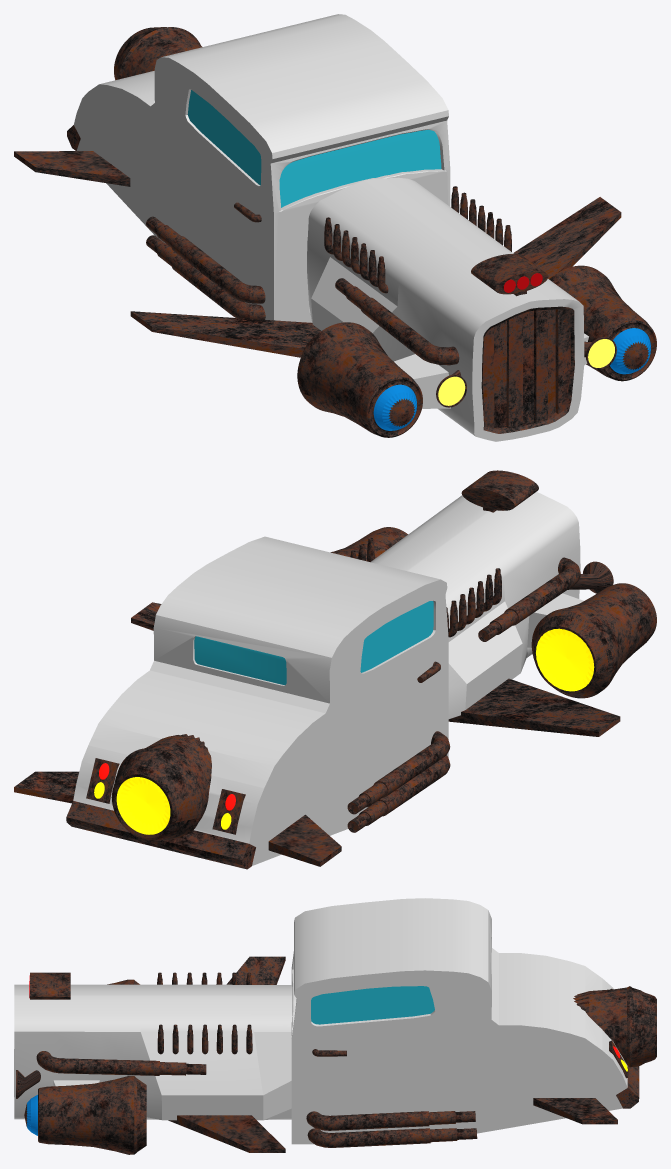
File: HotRod Textured.fbx
3 renders of one model, top to bottom at view 1: azimuth 30°, elevation 25°; view 2: azimuth 150°, elevation 25°; view 3: azimuth 270°, elevation 25°, orthographic. The views are drawn at different scales.
Parts seen in each view (by area): view 1: Cube.001; view 2: Cube.001; view 3: Cube.001.
Part boxes in pixels (x1,y1,x2,y2): Cube.001: (14,14,656,441); Cube.001: (14,470,656,869); Cube.001: (14,898,656,1154).
Size of the model in its own units: 482 by 204 by 682.
9 materials, 1 textured.
